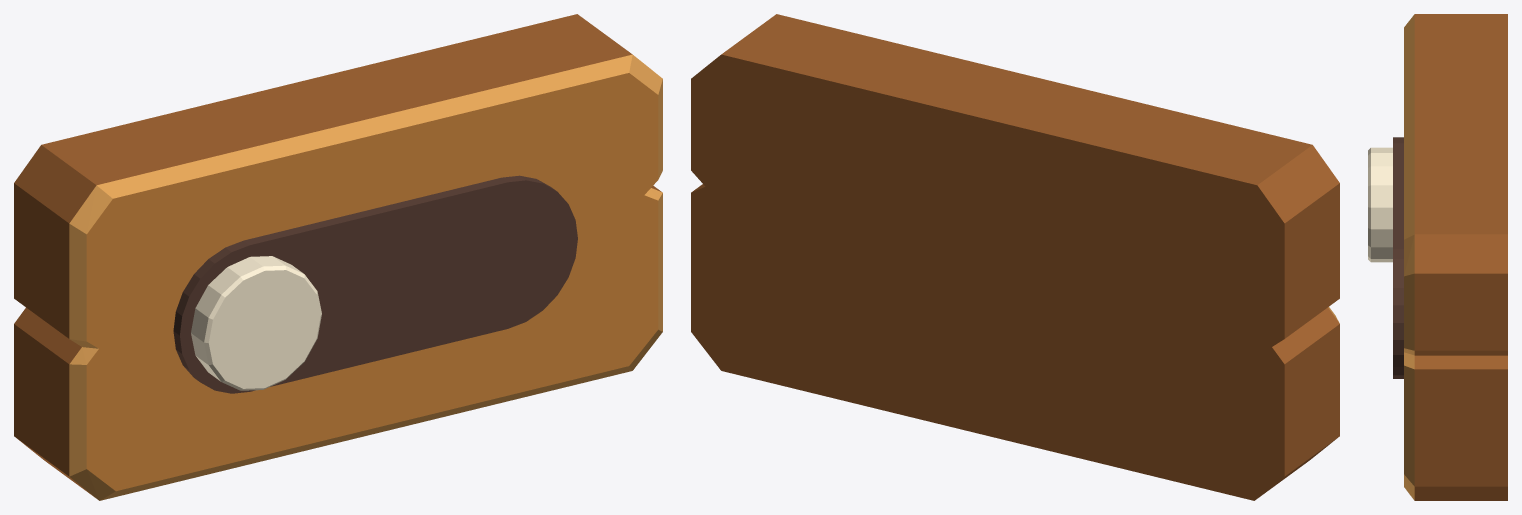
The model's file is SwitchOff.fbx.
3 renders of one model, left to right at view 1: azimuth 30°, elevation 25°; view 2: azimuth 150°, elevation 25°; view 3: azimuth 270°, elevation 25°, orthographic. The views are drawn at different scales.
Parts seen in each view (by area): view 1: Stone, Track, Handle; view 2: Stone; view 3: Stone, Handle, Track.
Part boxes in pixels (box(x1,y1,x2,y2)): Stone: box(14, 14, 662, 500); Track: box(173, 175, 577, 393); Handle: box(191, 256, 321, 390); Stone: box(691, 14, 1339, 500); Stone: box(1404, 14, 1507, 500); Handle: box(1368, 147, 1392, 262); Track: box(1393, 137, 1403, 378).
Size of the model in its own units: 0.161 by 0.082 by 0.039.
